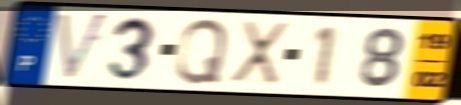1: (310, 25, 340, 88)
3: (104, 13, 162, 84)
8: (358, 26, 406, 91)
Q: (173, 16, 231, 86)
V: (55, 10, 112, 84)
X: (226, 18, 292, 89)
